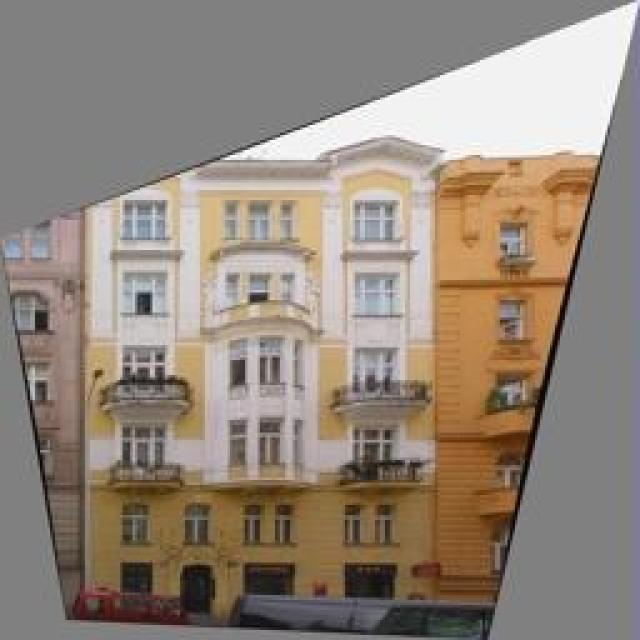building: (85, 113, 427, 635), (435, 100, 640, 638)
